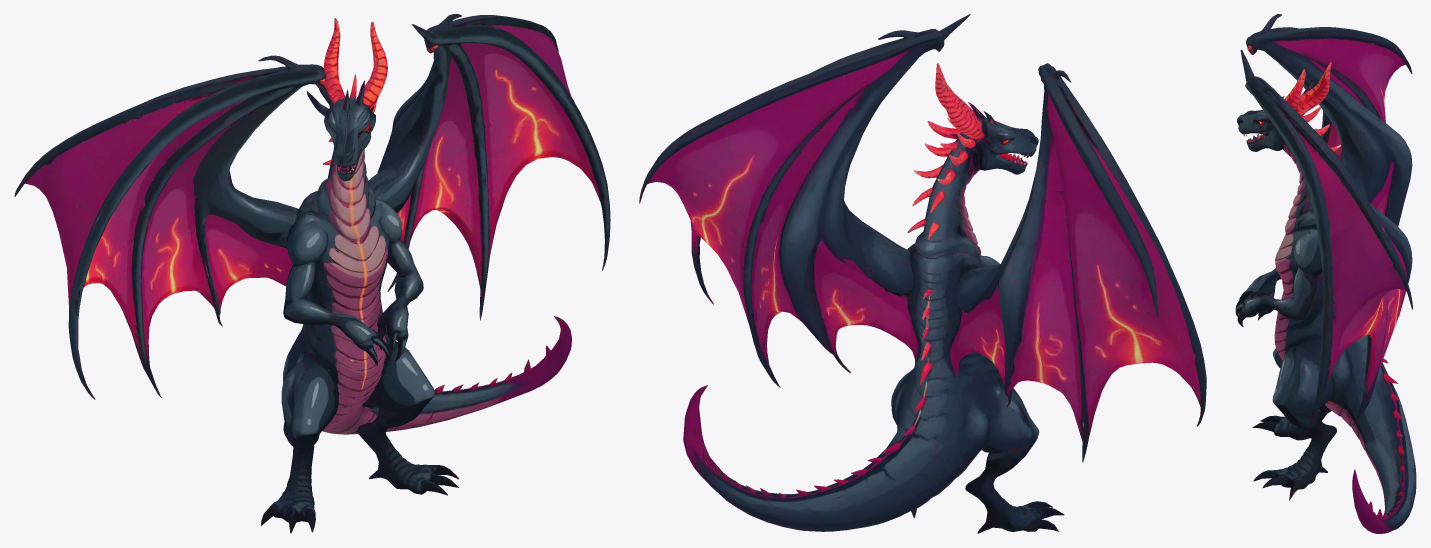
The model's file is volcano-dragon.glb.
The picture shows the model from 3 angles, left to right: view 1: azimuth 30°, elevation 25°; view 2: azimuth 150°, elevation 25°; view 3: azimuth 270°, elevation 25°; orthographic projection. The views are drawn at different scales.
Visible parts, largest first — view 1: Mesh_0; view 2: Mesh_0; view 3: Mesh_0.
Part boxes in pixels (x1,y1,x2,y2): Mesh_0: [14, 14, 610, 533]; Mesh_0: [639, 14, 1206, 533]; Mesh_0: [1235, 14, 1416, 533].
Bounding box in the file's own units: 1.9 × 1.65 × 0.6431.
1 material, 1 textured.
